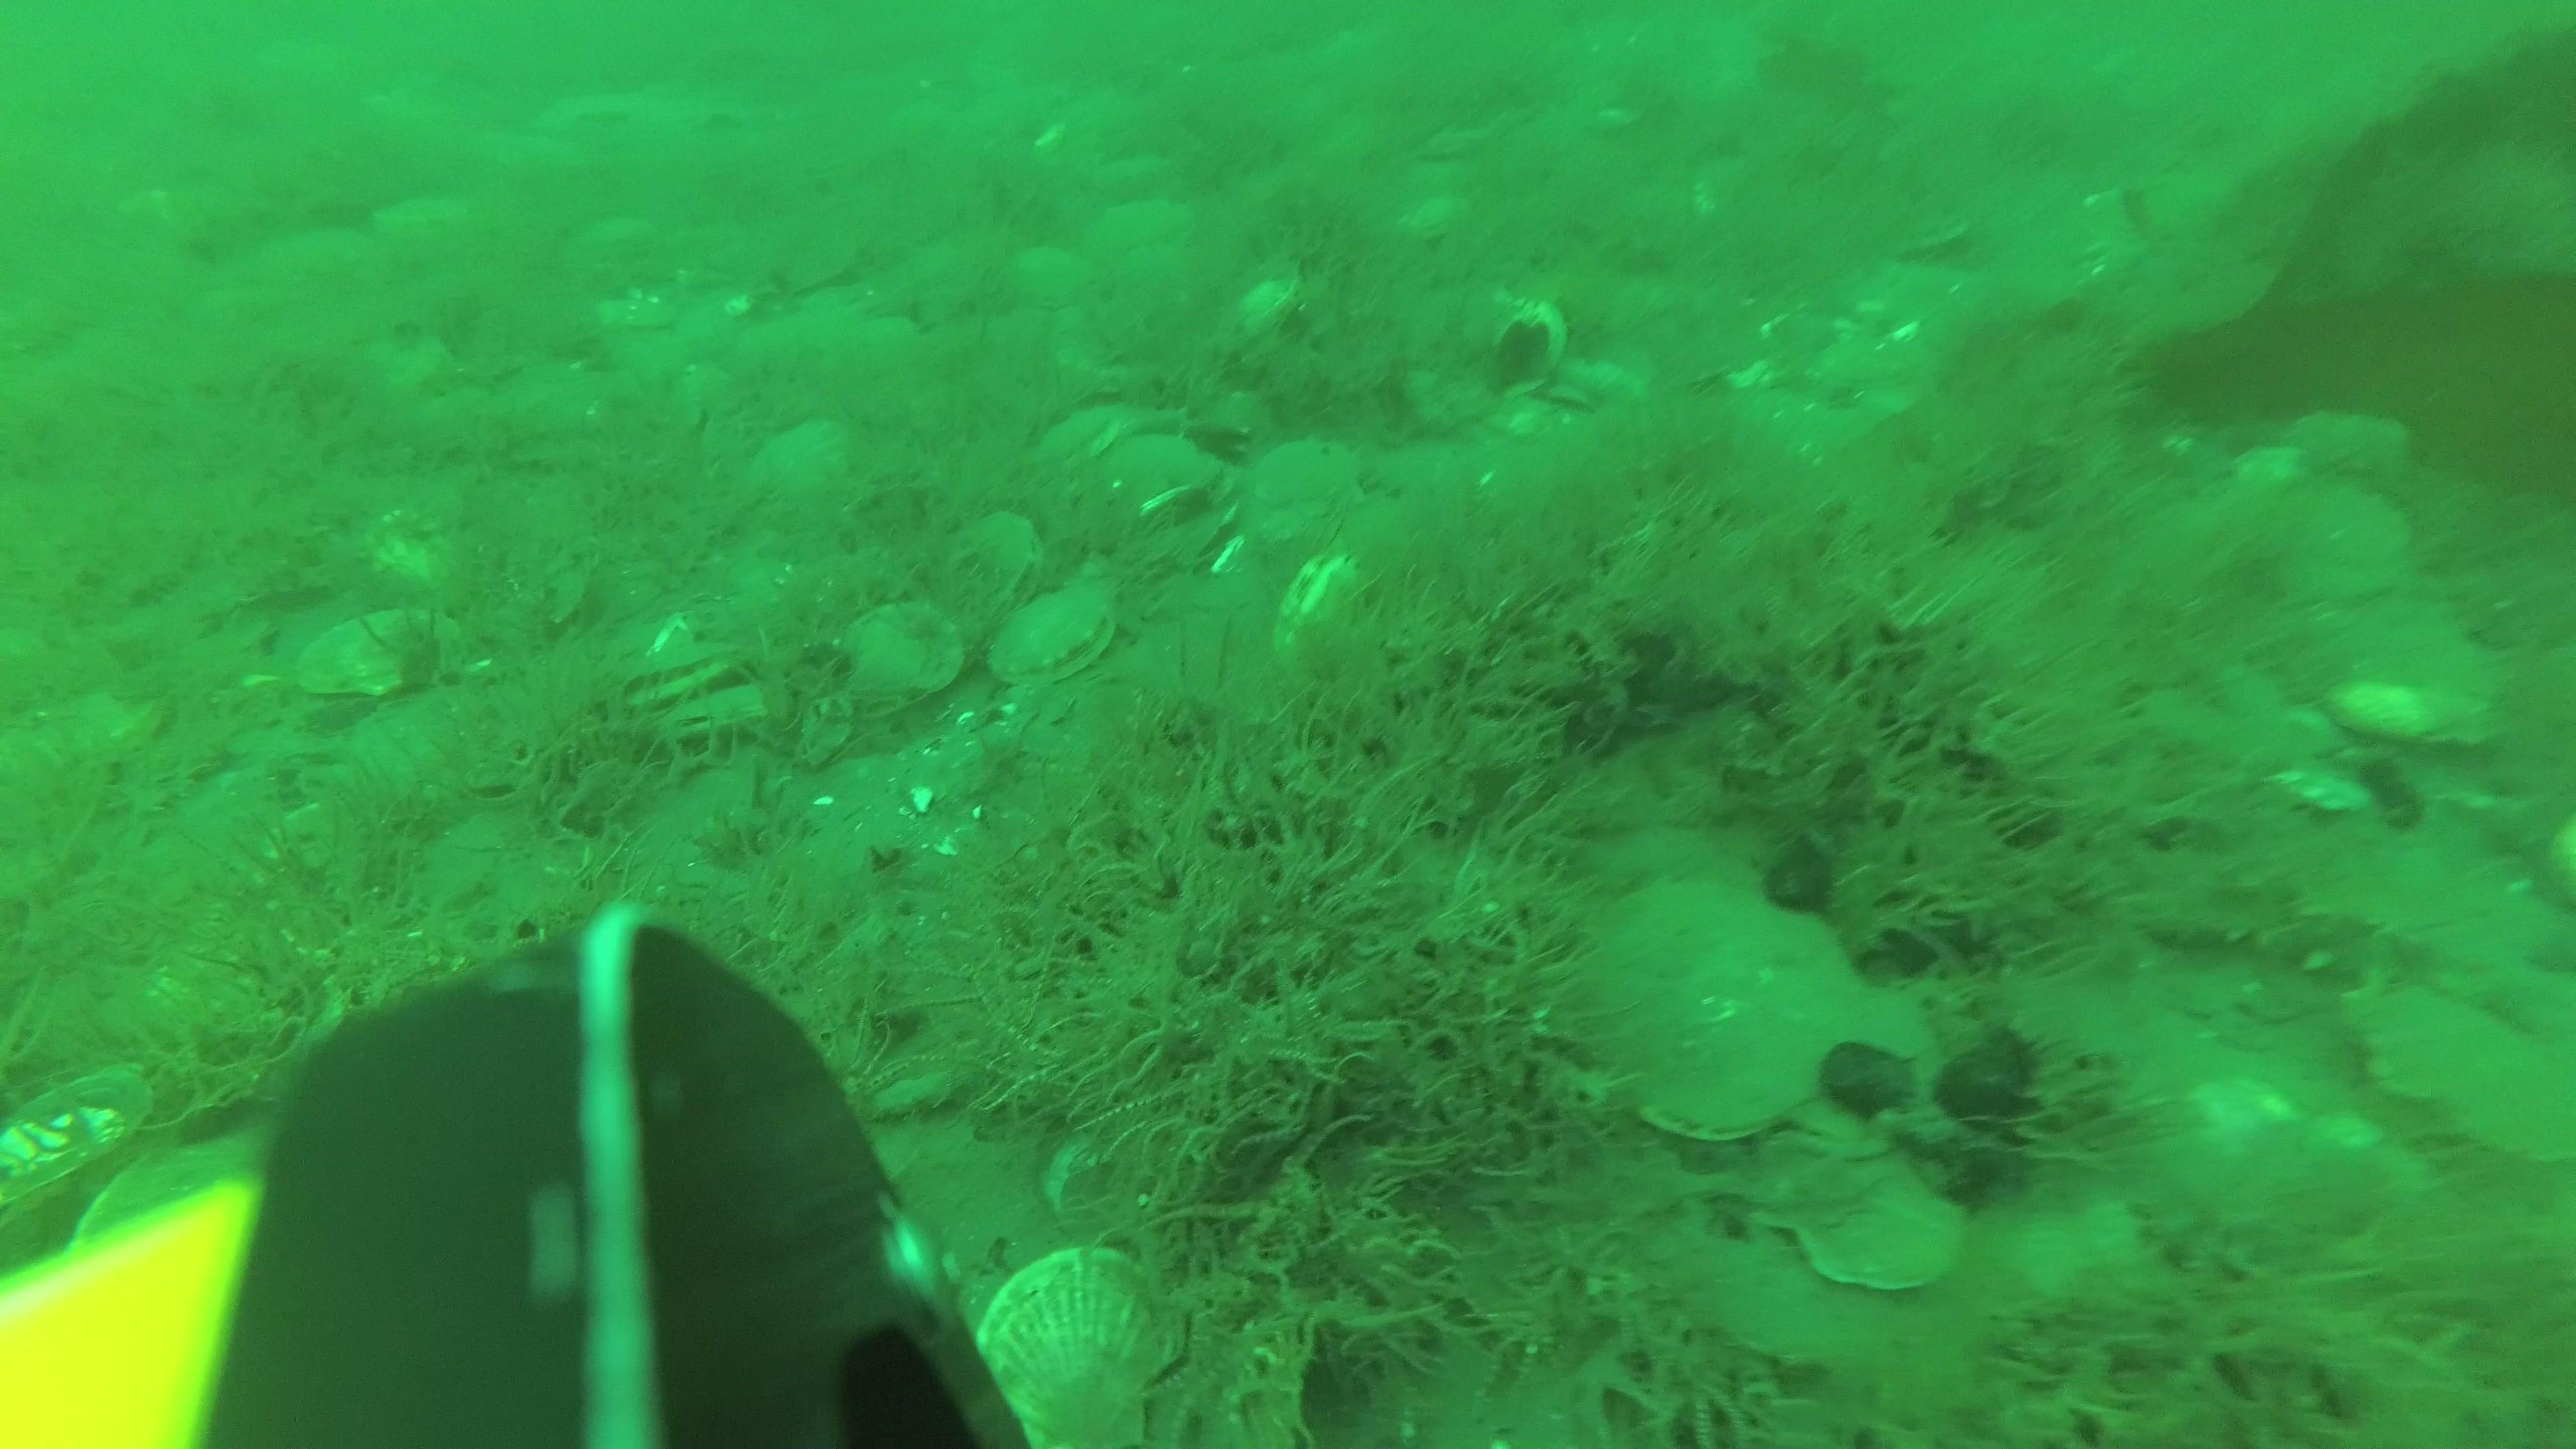holothurian: (2130, 867, 2442, 1000)
scallop: (1568, 888, 1851, 1141), (975, 1235, 1191, 1442), (1764, 991, 1941, 1148), (5, 1065, 165, 1215), (1737, 1083, 1895, 1223), (2296, 600, 2484, 717), (1810, 1161, 1969, 1288), (2254, 474, 2410, 603), (2348, 982, 2518, 1099), (2454, 1024, 2576, 1175), (2334, 669, 2502, 766), (826, 602, 966, 713), (303, 609, 453, 708), (993, 589, 1134, 690), (932, 511, 1046, 621), (632, 686, 794, 761), (2291, 400, 2420, 492), (1088, 428, 1214, 517), (1238, 437, 1348, 536), (1024, 389, 1150, 469), (743, 426, 870, 504), (352, 511, 456, 589), (619, 649, 731, 722), (1000, 246, 1108, 320), (1217, 267, 1299, 356), (1083, 195, 1196, 257), (377, 189, 471, 251)
